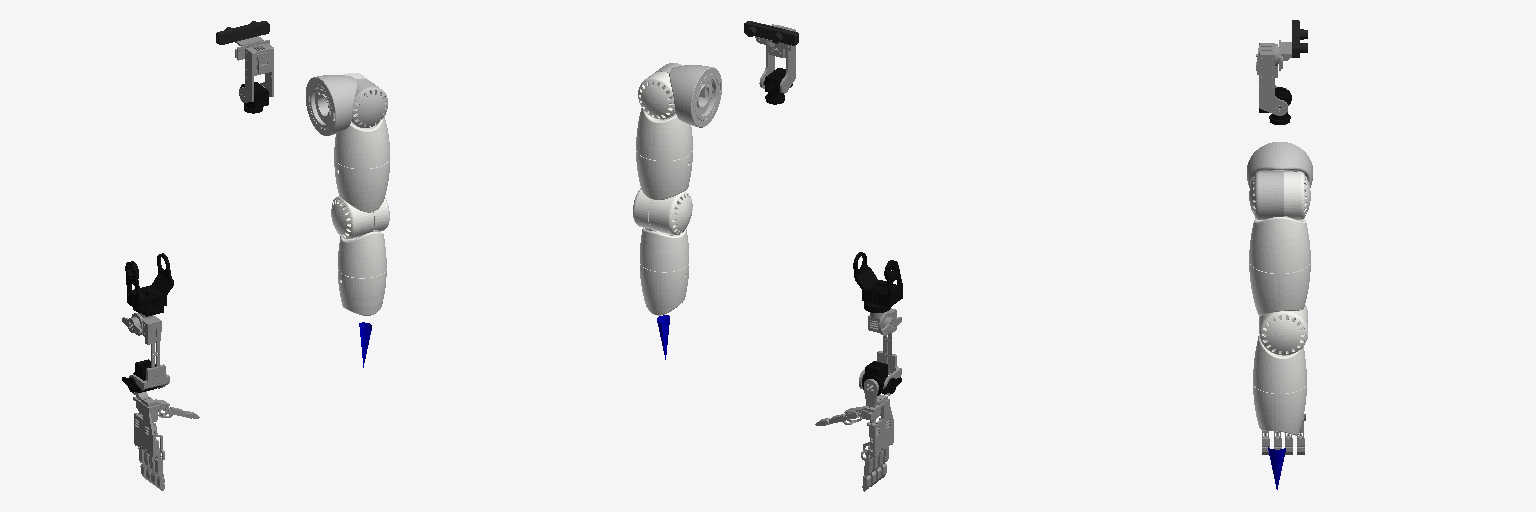
robot.urdf — Wattson:
<robot name="Wattson" version="1.0">
  <joint name="joint_head_pitch" type="revolute">
    <limit lower="0.00000" upper="0.00000" effort="0.00000" velocity="0.00000"/>
    <origin rpy="0.00000 -1.57080 0.00000" xyz="-0.00012 -0.00000 0.03998"/>
    <parent link="link_head_yaw"/>
    <child link="link_head_pitch"/>
    <axis xyz="0.00000 0.00000 1.00000"/>
  </joint>
  <joint name="joint_head_roll" type="revolute">
    <limit lower="0.00000" upper="0.00000" effort="0.00000" velocity="0.00000"/>
    <origin rpy="-1.57080 1.57080 0.00000" xyz="0.10002 -0.01200 0.00030"/>
    <parent link="link_head_pitch"/>
    <child link="link_head_roll"/>
    <axis xyz="0.00000 0.00000 1.00000"/>
  </joint>
  <joint name="joint_head_yaw" type="revolute">
    <limit lower="0.00000" upper="0.00000" effort="0.00000" velocity="0.00000"/>
    <origin rpy="0.00000 0.00000 0.00000" xyz="0.00012 0.00000 0.20400"/>
    <parent link="link_torso"/>
    <child link="link_head_yaw"/>
    <axis xyz="0.00000 0.00000 1.00000"/>
  </joint>
  <joint name="joint_left_arm_yaw" type="revolute">
    <limit lower="-3.14000" upper="3.14000" effort="0.00000" velocity="0.00000"/>
    <origin rpy="1.57080 0.00000 0.00000" xyz="-0.00020 0.12745 0.01486"/>
    <parent link="link_left_shoulder_x"/>
    <child link="link_left_upper_arm"/>
    <axis xyz="0.00000 0.00000 1.00000"/>
  </joint>
  <joint name="joint_left_elbow_pitch" type="revolute">
    <limit lower="-3.14000" upper="3.14000" effort="0.00000" velocity="0.00000"/>
    <origin rpy="-0.00000 1.57080 0.00000" xyz="0.00011 -0.00027 -0.23600"/>
    <parent link="link_left_upper_arm"/>
    <child link="link_left_forearm"/>
    <axis xyz="0.00000 0.00000 1.00000"/>
  </joint>
  <joint name="joint_left_forearm_yaw" type="revolute">
    <limit lower="-3.14000" upper="3.14000" effort="0.00000" velocity="0.00000"/>
    <origin rpy="-0.00000 -1.57080 0.00000" xyz="0.09363 0.00002 -0.00011"/>
    <parent link="link_left_forearm"/>
    <child link="link_left_wrist"/>
    <axis xyz="0.00000 0.00000 1.00000"/>
  </joint>
  <joint name="joint_left_shoulder_pitch" type="revolute">
    <limit lower="-3.14000" upper="3.14000" effort="0.00000" velocity="0.00000"/>
    <origin rpy="-3.14159 -1.04720 -0.00000" xyz="-0.16356 0.00077 0.19342"/>
    <parent link="link_torso"/>
    <child link="link_left_shoulder"/>
    <axis xyz="0.00000 0.00000 1.00000"/>
  </joint>
  <joint name="joint_left_shoulder_roll" type="revolute">
    <limit lower="-3.14000" upper="3.14000" effort="0.00000" velocity="0.00000"/>
    <origin rpy="1.57080 -1.04720 0.00000" xyz="0.00011 0.00077 -0.10785"/>
    <parent link="link_left_shoulder"/>
    <child link="link_left_shoulder_x"/>
    <axis xyz="0.00000 0.00000 1.00000"/>
  </joint>
  <joint name="joint_left_wrist_pitch" type="revolute">
    <limit lower="-3.14000" upper="3.14000" effort="0.00000" velocity="0.00000"/>
    <origin rpy="-0.00000 1.57080 0.00000" xyz="0.00110 -0.00019 -0.17400"/>
    <parent link="link_left_wrist"/>
    <child link="link_left_wrist_x"/>
    <axis xyz="0.00000 0.00000 1.00000"/>
  </joint>
  <joint name="joint_left_wrist_roll" type="revolute">
    <limit lower="-3.14000" upper="3.14000" effort="0.00000" velocity="0.00000"/>
    <origin rpy="2.42926 1.57080 -2.28313" xyz="0.00002 0.02290 0.00009"/>
    <parent link="link_left_wrist_x"/>
    <child link="link_left_hand"/>
    <axis xyz="0.00000 0.00000 1.00000"/>
  </joint>
  <joint name="joint_right_arm_yaw" type="revolute">
    <limit lower="-3.14000" upper="3.14000" effort="0.00000" velocity="0.00000"/>
    <origin rpy="1.57080 0.00000 0.00000" xyz="0.00750 -0.13650 0.00800"/>
    <parent link="link_right_shoulder_x"/>
    <child link="link_right_upper_arm"/>
    <axis xyz="0.00000 0.00000 1.00000"/>
  </joint>
  <joint name="joint_right_elbow_pitch" type="revolute">
    <limit lower="-3.14000" upper="3.14000" effort="0.00000" velocity="0.00000"/>
    <origin rpy="1.79848 -1.57080 1.34311" xyz="0.00800 -0.00750 0.13550"/>
    <parent link="link_right_upper_arm"/>
    <child link="link_right_forearm"/>
    <axis xyz="0.00000 0.00000 1.00000"/>
  </joint>
  <joint name="joint_right_forearm_yaw" type="revolute">
    <limit lower="-3.14000" upper="3.14000" effort="0.00000" velocity="0.00000"/>
    <origin rpy="-3.14159 -1.57080 0.00000" xyz="0.12550 -0.00750 -0.00800"/>
    <parent link="link_right_forearm"/>
    <child link="link_right_wrist"/>
    <axis xyz="0.00000 0.00000 1.00000"/>
  </joint>
  <joint name="joint_right_shoulder_pitch" type="revolute">
    <limit lower="-3.14000" upper="3.14000" effort="0.00000" velocity="0.00000"/>
    <origin rpy="-0.00000 1.57080 0.00000" xyz="0.16554 0.00000 0.17223"/>
    <parent link="link_torso"/>
    <child link="link_right_shoulder"/>
    <axis xyz="0.00000 0.00000 1.00000"/>
  </joint>
  <joint name="joint_right_shoulder_roll" type="revolute">
    <limit lower="-3.14000" upper="3.14000" effort="0.00000" velocity="0.00000"/>
    <origin rpy="1.57080 -1.57080 0.00000" xyz="0.00750 0.00800 0.09550"/>
    <parent link="link_right_shoulder"/>
    <child link="link_right_shoulder_x"/>
    <axis xyz="0.00000 0.00000 1.00000"/>
  </joint>
  <joint name="joint_right_wrist_roll" type="revolute">
    <limit lower="-3.14000" upper="3.14000" effort="0.00000" velocity="0.00000"/>
    <origin rpy="-1.57080 0.00000 3.14159" xyz="0.00000 -0.03732 0.15088"/>
    <parent link="link_right_wrist"/>
    <child link="link_right_hand"/>
    <axis xyz="0.00000 0.00000 1.00000"/>
  </joint>
  <link name="link_head_pitch">
    <visual name="head_pitch">
      <origin rpy="-0.00000 1.57080 0.00000" xyz="0.00000 0.00000 0.00000"/>
      <material name="Opaque(160,160,160)"/>
      <geometry>
        <mesh filename="package://wattson_description/meshes/stl/head_pitch.stl" scale="1.00000 1.00000 1.00000"/>
      </geometry>
    </visual>
  </link>
  <link name="link_head_roll">
    <visual name="camera">
      <origin rpy="1.57080 0.00000 0.00000" xyz="-0.00620 -0.03059 0.03605"/>
      <material name="Plastic - Texture - Random (Black Gloss)"/>
      <geometry>
        <mesh filename="package://wattson_description/meshes/stl/camera.stl" scale="1.00000 1.00000 1.00000"/>
      </geometry>
    </visual>
    <visual name="head_roll">
      <origin rpy="1.57080 0.00000 0.00000" xyz="0.00000 0.00000 0.00000"/>
      <material name="Opaque(160,160,160)"/>
      <geometry>
        <mesh filename="package://wattson_description/meshes/stl/head_roll.stl" scale="1.00000 1.00000 1.00000"/>
      </geometry>
    </visual>
  </link>
  <link name="link_head_yaw">
    <visual name="head_yaw">
      <origin rpy="0.00000 0.00000 0.00000" xyz="0.00000 0.00000 0.00000"/>
      <material name="Opaque(25,25,25)"/>
      <geometry>
        <mesh filename="package://wattson_description/meshes/stl/head_yaw.stl" scale="1.00000 1.00000 1.00000"/>
      </geometry>
    </visual>
  </link>
  <link name="link_left_forearm">
    <collision>
      <origin rpy="-0.00000 -1.57080 0.00000" xyz="0.03558 -0.00583 0.00393"/>
      <geometry>
        <box size="0.08489 0.06853 0.11616"/>
      </geometry>
    </collision>
    <visual name="left_forearm">
      <origin rpy="-0.00000 -1.57080 0.00000" xyz="0.00000 0.00000 0.00000"/>
      <material name="Opaque(25,25,25)"/>
      <geometry>
        <mesh filename="package://wattson_description/meshes/stl/left_forearm.stl" scale="1.00000 1.00000 1.00000"/>
      </geometry>
    </visual>
  </link>
  <link name="link_left_hand">
    <collision>
      <origin rpy="1.57080 0.00000 3.14159" xyz="-0.00299 -0.11191 -0.03097"/>
      <geometry>
        <box size="0.03776 0.08957 0.26082"/>
      </geometry>
    </collision>
    <visual name="left_hand">
      <origin rpy="1.57080 0.00000 3.14159" xyz="0.00000 0.00000 0.00000"/>
      <material name="Opaque(160,160,160)"/>
      <geometry>
        <mesh filename="package://wattson_description/meshes/stl/left_hand.stl" scale="1.00000 1.00000 1.00000"/>
      </geometry>
    </visual>
  </link>
  <link name="link_left_shoulder">
    <collision>
      <origin rpy="0.00000 -0.00000 -1.57080" xyz="-0.00517 0.00077 -0.06157"/>
      <geometry>
        <cylinder radius="0.05040" length="0.11000"/>
      </geometry>
    </collision>
    <visual name="left_shoulder">
      <origin rpy="3.14159 -1.04720 0.00000" xyz="-0.00000 0.00000 0.00000"/>
      <material name="Opaque(25,25,25)"/>
      <geometry>
        <mesh filename="package://wattson_description/meshes/stl/left_shoulder.stl" scale="1.00000 1.00000 1.00000"/>
      </geometry>
    </visual>
  </link>
  <link name="link_left_shoulder_x">
    <collision>
      <origin rpy="1.57080 0.00000 -0.00000" xyz="-0.00020 0.05428 0.00895"/>
      <geometry>
        <box size="0.06396 0.10018 0.17240"/>
      </geometry>
    </collision>
    <visual name="left_shoulder_x">
      <origin rpy="1.57080 0.00000 0.00000" xyz="0.00000 0.00000 0.00000"/>
      <material name="Opaque(179,179,179)"/>
      <geometry>
        <mesh filename="package://wattson_description/meshes/stl/left_shoulder_x.stl" scale="1.00000 1.00000 1.00000"/>
      </geometry>
    </visual>
  </link>
  <link name="link_left_upper_arm">
    <collision>
      <origin rpy="0.00000 0.00000 0.00000" xyz="0.00473 -0.00127 -0.13299"/>
      <geometry>
        <box size="0.07946 0.06203 0.26602"/>
      </geometry>
    </collision>
    <visual name="left_upper_arm">
      <origin rpy="0.00000 0.00000 -0.00000" xyz="0.00000 0.00000 0.00000"/>
      <material name="Opaque(191,189,187)"/>
      <geometry>
        <mesh filename="package://wattson_description/meshes/stl/left_upper_arm.stl" scale="1.00000 1.00000 1.00000"/>
      </geometry>
    </visual>
  </link>
  <link name="link_left_wrist">
    <collision>
      <origin rpy="0.00000 0.00000 0.00000" xyz="-0.00130 -0.00313 -0.09773"/>
      <geometry>
        <box size="0.07085 0.08614 0.19550"/>
      </geometry>
    </collision>
    <visual name="left_wrist">
      <origin rpy="0.00000 0.00000 -0.00000" xyz="0.00000 0.00000 0.00000"/>
      <material name="Opaque(160,160,160)"/>
      <geometry>
        <mesh filename="package://wattson_description/meshes/stl/left_wrist.stl" scale="1.00000 1.00000 1.00000"/>
      </geometry>
    </visual>
  </link>
  <link name="link_left_wrist_x">
    <collision>
      <origin rpy="-0.00000 -1.57080 0.00000" xyz="-0.00775 -0.00002 -0.00201"/>
      <geometry>
        <box size="0.07164 0.08000 0.06454"/>
      </geometry>
    </collision>
    <visual name="left_wrist_x">
      <origin rpy="-0.00000 -1.57080 0.00000" xyz="0.00000 0.00000 0.00000"/>
      <material name="Opaque(25,25,25)"/>
      <geometry>
        <mesh filename="package://wattson_description/meshes/stl/left_wrist_x.stl" scale="1.00000 1.00000 1.00000"/>
      </geometry>
    </visual>
  </link>
  <link name="link_right_forearm">
    <collision>
      <origin rpy="0.00000 -1.57080 0.00000" xyz="0.03850 -0.00626 -0.00425"/>
      <geometry>
        <cylinder radius="0.05625" length="0.17200"/>
      </geometry>
    </collision>
    <visual name="right_forearm">
      <origin rpy="0.00000 -1.57080 0.00000" xyz="0.00000 0.00000 0.00000"/>
      <material name="Plastic - Matte (White)"/>
      <geometry>
        <mesh filename="package://wattson_description/meshes/stl/right_forearm.stl" scale="1.00000 1.00000 1.00000"/>
      </geometry>
    </visual>
  </link>
  <link name="link_right_hand">
    <visual name="Cone">
      <origin rpy="1.57080 0.00000 -3.14159" xyz="-0.00000 -0.03300 -0.04290"/>
      <material name="Right arrow"/>
      <geometry>
        <mesh filename="package://wattson_description/meshes/stl/Cone.stl" scale="0.01903 0.01903 0.04934"/>
      </geometry>
    </visual>
  </link>
  <link name="link_right_shoulder">
    <collision>
      <origin rpy="0.00000 0.00000 0.00000" xyz="0.00000 0.00000 0.07150"/>
      <geometry>
        <cylinder radius="0.06500" length="0.14300"/>
      </geometry>
    </collision>
    <visual name="right_shoulder">
      <origin rpy="0.00000 -1.57080 0.00000" xyz="0.00000 0.00000 0.00000"/>
      <material name="Stainless Steel - Satin"/>
      <geometry>
        <mesh filename="package://wattson_description/meshes/stl/right_shoulder.stl" scale="1.00000 1.00000 1.00000"/>
      </geometry>
    </visual>
  </link>
  <link name="link_right_shoulder_x">
    <collision>
      <origin rpy="-1.57080 0.00000 0.00000" xyz="0.00750 -0.04400 0.00800"/>
      <geometry>
        <cylinder radius="0.06000" length="0.18300"/>
      </geometry>
    </collision>
    <visual name="right_shoulder_x">
      <origin rpy="-1.57080 0.00000 0.00000" xyz="0.00000 0.00000 0.00000"/>
      <material name="Plastic - Matte (White)"/>
      <geometry>
        <mesh filename="package://wattson_description/meshes/stl/right_shoulder_x.stl" scale="1.00000 1.00000 1.00000"/>
      </geometry>
    </visual>
  </link>
  <link name="link_right_upper_arm">
    <collision>
      <origin rpy="3.14159 0.00000 0.00000" xyz="0.00000 0.00000 0.09150"/>
      <geometry>
        <cylinder radius="0.06000" length="0.18300"/>
      </geometry>
    </collision>
    <visual name="right_upper_arm">
      <origin rpy="3.14159 0.00000 0.00000" xyz="0.00000 -0.00000 0.00000"/>
      <material name="Plastic - Matte (White)"/>
      <geometry>
        <mesh filename="package://wattson_description/meshes/stl/right_upper_arm.stl" scale="1.00000 1.00000 1.00000"/>
      </geometry>
    </visual>
  </link>
  <link name="link_right_wrist">
    <collision>
      <origin rpy="3.14159 0.00000 0.00000" xyz="0.00000 0.00000 0.05488"/>
      <geometry>
        <cylinder radius="0.05250" length="0.10977"/>
      </geometry>
    </collision>
    <visual name="right_wrist">
      <origin rpy="3.14159 0.00000 0.00000" xyz="0.00000 -0.00000 0.00000"/>
      <material name="Plastic - Matte (White)"/>
      <geometry>
        <mesh filename="package://wattson_description/meshes/stl/right_wrist.stl" scale="1.00000 1.00000 1.00000"/>
      </geometry>
    </visual>
  </link>
  <link name="link_torso">
    <collision>
      <origin rpy="3.14159 0.00000 0.00000" xyz="-0.00000 -0.00510 0.06940"/>
      <geometry>
        <box size="0.33312 0.10702 0.35498"/>
      </geometry>
    </collision>
    <visual name="torso">
      <origin rpy="0.00000 0.00000 0.00000" xyz="0.00000 -0.00000 0.00000"/>
      <material name="ABS (White)"/>
      <geometry>
        <mesh filename="package://wattson_description/meshes/stl/torso.stl" scale="1.00000 1.00000 1.00000"/>
      </geometry>
    </visual>
  </link>
  <material name="ABS (White)">
    <color rgba="0.96471 0.96471 0.95294 1.00000"/>
  </material>
  <material name="Opaque(160,160,160)">
    <color rgba="0.62745 0.62745 0.62745 1.00000"/>
  </material>
  <material name="Opaque(179,179,179)">
    <color rgba="0.70196 0.70196 0.70196 1.00000"/>
  </material>
  <material name="Opaque(191,189,187)">
    <color rgba="0.74902 0.74118 0.73333 1.00000"/>
  </material>
  <material name="Opaque(25,25,25)">
    <color rgba="0.09804 0.09804 0.09804 1.00000"/>
  </material>
  <material name="Plastic - Matte (White)">
    <color rgba="0.96471 0.96471 0.95294 1.00000"/>
  </material>
  <material name="Plastic - Texture - Random (Black Gloss)">
    <color rgba="0.18431 0.18431 0.18431 1.00000"/>
  </material>
  <material name="Right arrow">
    <color rgba="0.00392 0.00000 0.80000 1.00000"/>
  </material>
  <material name="Stainless Steel - Satin">
    <color rgba="0.79608 0.79608 0.79608 1.00000"/>
  </material>
</robot>

--- Facts derived from the render (not from the file) ---
Views: 3 orthographic renders of the robot side by side, from view 1: azimuth 30°, elevation 25°; view 2: azimuth 150°, elevation 25°; view 3: azimuth 270°, elevation 25°.
Robot: Wattson — 17 links, 16 joints (16 revolute); root link link_torso; default pose: every joint at zero.
Links seen in each view (by area): view 1: link_right_shoulder, link_right_upper_arm, link_left_hand, link_right_forearm, link_right_shoulder_x, link_left_forearm, link_right_wrist, link_left_wrist, link_head_pitch, link_head_roll; view 2: link_right_shoulder_x, link_right_upper_arm, link_left_hand, link_right_shoulder, link_right_forearm, link_left_forearm, link_right_wrist, link_left_wrist, link_head_roll, link_head_pitch, link_left_wrist_x, link_head_yaw; view 3: link_right_shoulder_x, link_right_forearm, link_right_shoulder, link_right_upper_arm, link_right_wrist, link_head_pitch, link_head_roll, link_left_hand.
Link boxes in pixels (x1,y1,x2,y2): link_right_shoulder: (306,75,387,135); link_right_upper_arm: (331,159,389,239); link_left_hand: (133,391,199,490); link_right_forearm: (338,198,389,277); link_right_shoulder_x: (334,73,389,168); link_left_forearm: (125,253,173,316); link_right_wrist: (338,269,386,315); link_left_wrist: (122,313,169,394); link_head_pitch: (239,41,273,102); link_head_roll: (216,21,269,60); link_right_shoulder_x: (636,72,692,160); link_right_upper_arm: (636,151,692,234); link_left_hand: (815,379,893,491); link_right_shoulder: (655,63,721,127); link_right_forearm: (633,188,688,271); link_left_forearm: (853,252,902,312); link_right_wrist: (640,264,688,315); link_left_wrist: (859,308,901,395); link_head_roll: (744,21,798,50); link_head_pitch: (759,24,795,93); link_left_wrist_x: (862,361,901,395); link_head_yaw: (764,68,792,104); link_right_shoulder_x: (1249,171,1310,273); link_right_forearm: (1253,310,1307,393); link_right_shoulder: (1247,142,1312,219); link_right_upper_arm: (1249,263,1310,323); link_right_wrist: (1253,385,1306,435); link_head_pitch: (1256,43,1287,115); link_head_roll: (1278,20,1307,70); link_left_hand: (1262,414,1305,454).
Size in the robot's own frame: 0.6241 by 0.13 by 1.01 metres.
14 mesh visuals loaded from 18 distinct referenced files (14 binary STL); not drawn: 4 (reference not matched to a file when rendering).